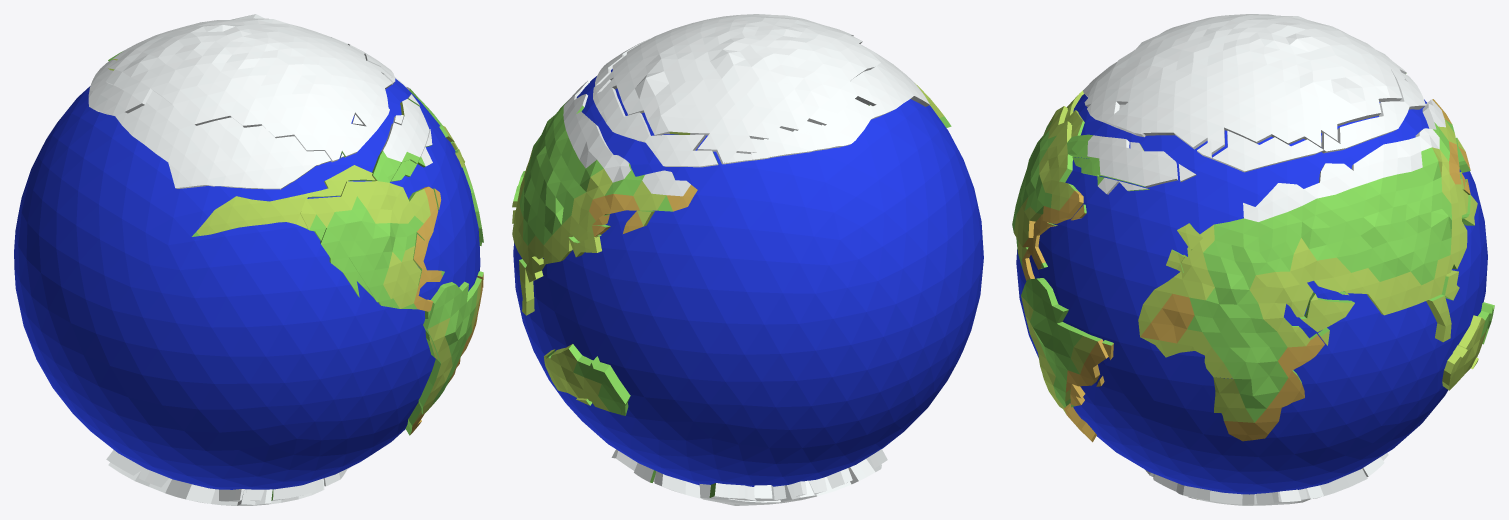
The model's file is world.glb.
3 renders of one model, left to right at view 1: azimuth 30°, elevation 25°; view 2: azimuth 150°, elevation 25°; view 3: azimuth 270°, elevation 25°, orthographic.
Parts seen in each view (by area): view 1: Икосфера; view 2: Икосфера; view 3: Икосфера.
Part boxes in pixels (x1,y1,x2,y2): Икосфера: (14, 14, 483, 505); Икосфера: (512, 14, 983, 505); Икосфера: (1012, 14, 1494, 505).
Bounding box in the file's own units: 4.2 × 4.31 × 4.22.
1 material, 1 textured.
